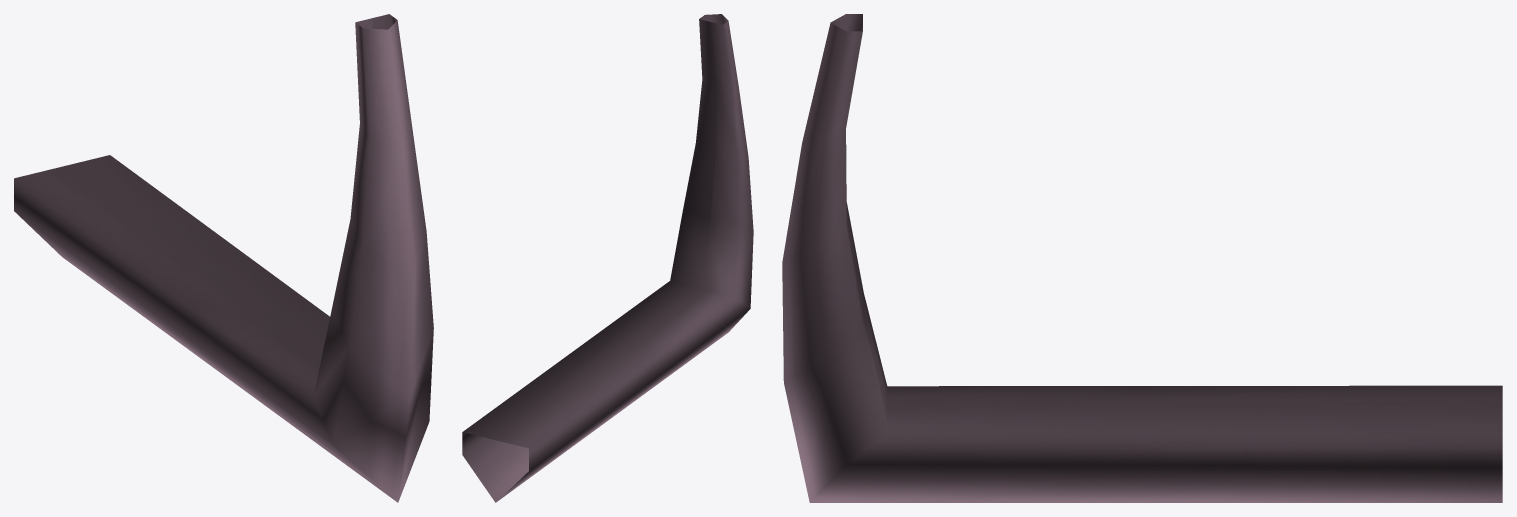
File: Cable_Hook.fbx
3 renders of one model, left to right at view 1: azimuth 30°, elevation 25°; view 2: azimuth 150°, elevation 25°; view 3: azimuth 270°, elevation 25°, orthographic. The views are drawn at different scales.
Visible parts, largest first — view 1: Cable_Hook; view 2: Cable_Hook; view 3: Cable_Hook.
Boxes of the visible parts, box(x1,y1,x2,y2) form: Cable_Hook: box(14, 14, 433, 502); Cable_Hook: box(462, 14, 753, 502); Cable_Hook: box(782, 14, 1502, 502).
Bounding box in the file's own units: 7.08 × 32.83 × 44.63.
